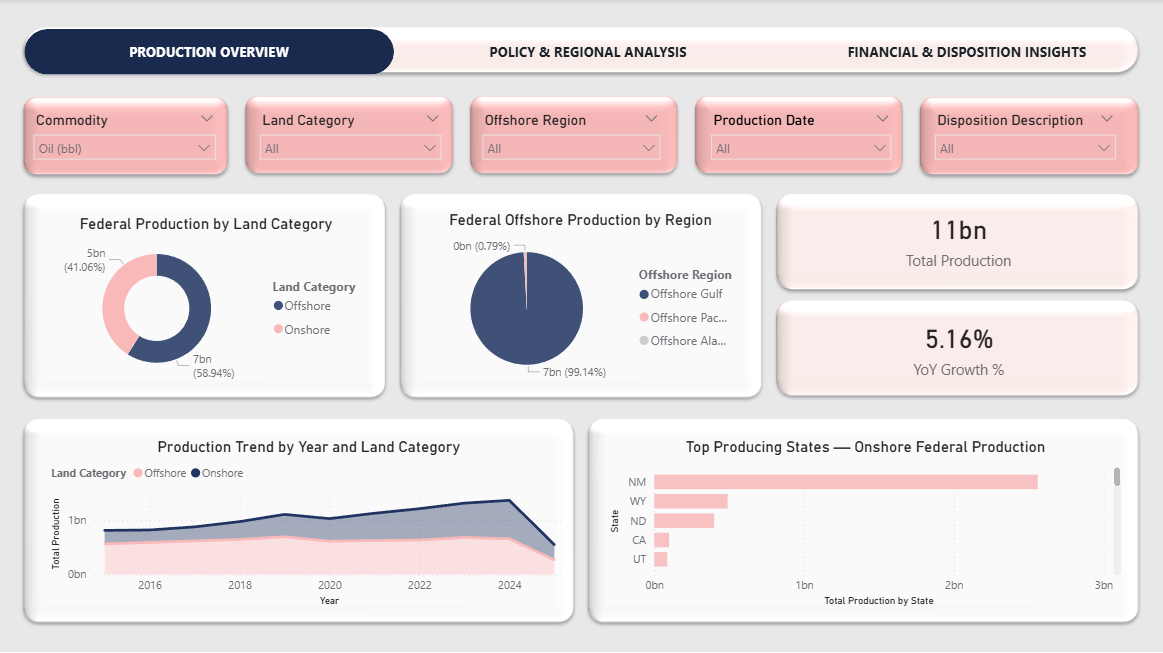

This screenshot's page, from the dashboard's own definition file:
{"tool":"powerbi","page":{"name":"PRODUCTION OVERVIEW","canvas":[1280,720],"ordinal":0},"visuals":[{"type":"slicer","fields":{"Values":["OGORBcsv.Commodity"]},"box":[28.8,120,220,62.5],"z":0},{"type":"slicer","fields":{"Values":["OGORBcsv.Land Category"]},"box":[277.2,119.4,219.6,93.3],"z":1000},{"type":"slicer","fields":{"Values":["OGORBcsv.Offshore Region"]},"box":[521.4,119.4,215.4,72.7],"z":2000},{"type":"slicer","fields":{"Values":["OGORBcsv.Production Date"]},"box":[772.6,119.4,218.2,72.7],"z":3000},{"type":"slicer","fields":{"Values":["OGORBcsv.Disposition Description"]},"box":[1018.6,120,218.6,71.4],"z":4000},{"type":"pageNavigator","box":[28.8,32.9,1239.1,50.8],"z":5000},{"type":"card","fields":{"Values":["OGORBcsv.Total Production"]},"box":[858.3,213.3,391.7,100],"z":6000},{"type":"card","fields":{"Values":["Date.YoY Growth % (Safe)"]},"box":[858.3,330,391.7,105],"z":7000},{"type":"stackedAreaChart","title":"Production Trend by Year and Land Category","fields":{"Category":["Date.Year"],"Series":["OGORBcsv.Land Category"],"Y":["OGORBcsv.Total Production"]},"box":[53.8,481.2,575.4,190.1],"z":8000},{"type":"clusteredBarChart","title":"Top Producing States — Onshore Federal Production","fields":{"Category":["OGORBcsv.State"],"Y":["OGORBcsv.Total Production by State (Onshore Only)"]},"box":[667,482,571,190],"z":9000},{"type":"donutChart","title":"Federal Production by Land Category","fields":{"Category":["OGORBcsv.Land Category"],"Y":["OGORBcsv.Total Production"]},"box":[42.1,235.5,371.8,188.4],"z":10000},{"type":"pieChart","title":"Federal Offshore Production by Region","fields":{"Category":["OGORBcsv.Offshore Region"],"Y":["OGORBcsv.Total Production by Offshore Region"]},"box":[452.6,232.2,373.5,196.8],"z":11000}]}

Visuals, with their boxes in screenshot pixels (x1, y1, x2, y2), scaled from the page's 1280x720 canvas onto the 1163x653 screenshot:
slicer - OGORBcsv.Commodity: 26/109/226/166
slicer - OGORBcsv.Land Category: 252/108/451/193
slicer - OGORBcsv.Offshore Region: 474/108/669/174
slicer - OGORBcsv.Production Date: 702/108/900/174
slicer - OGORBcsv.Disposition Description: 925/109/1124/174
pageNavigator: 26/30/1152/76
card - OGORBcsv.Total Production: 780/193/1136/284
card - Date.YoY Growth % (Safe): 780/299/1136/395
"Production Trend by Year and Land Category" stackedAreaChart: 49/436/572/609
"Top Producing States — Onshore Federal Production" clusteredBarChart: 606/437/1125/609
"Federal Production by Land Category" donutChart: 38/214/376/384
"Federal Offshore Production by Region" pieChart: 411/211/751/389
